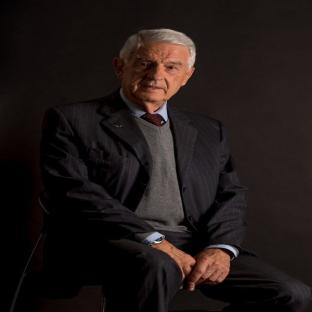Human: (20, 29, 312, 312)
